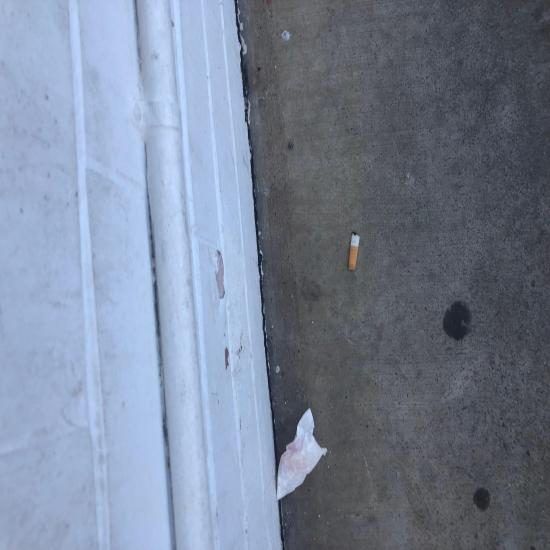Foam cup: (263, 289, 325, 401)
Paper cup: (260, 220, 332, 302)
Plastic film: (263, 391, 274, 449)
Unlabeled litter: (477, 107, 516, 150)
